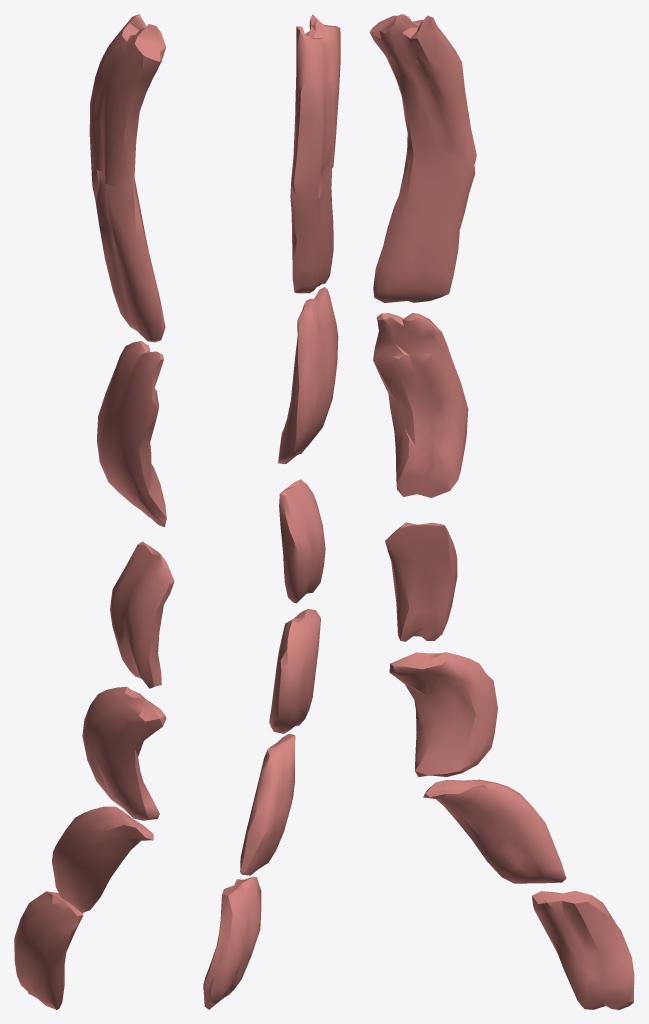
Rendered from fma71309-r_mm1321m.glb.
3 renders of one model, left to right at view 1: azimuth 30°, elevation 25°; view 2: azimuth 150°, elevation 25°; view 3: azimuth 270°, elevation 25°, orthographic. The views are drawn at different scales.
Parts seen in each view (by area): view 1: FMA71309-R_MM1321M; view 2: FMA71309-R_MM1321M; view 3: FMA71309-R_MM1321M.
Boxes of the visible parts, x1=… form: FMA71309-R_MM1321M: x1=14, y1=14, x2=174, y2=1009; FMA71309-R_MM1321M: x1=203, y1=14, x2=340, y2=1009; FMA71309-R_MM1321M: x1=369, y1=14, x2=634, y2=1009.
Size of the model in its own units: 0.00522 by 0.0947 by 0.0229.
